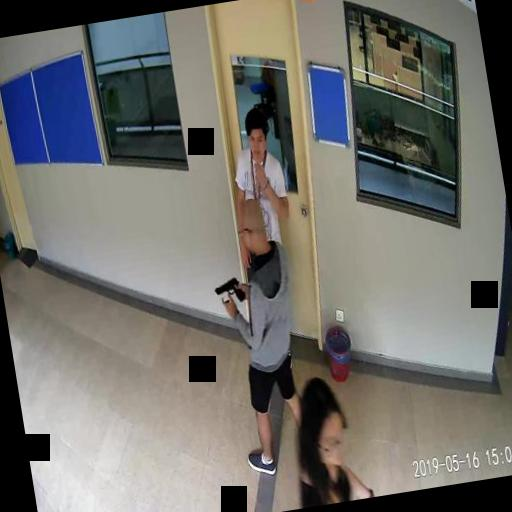Handgun: (211, 274, 245, 306)
